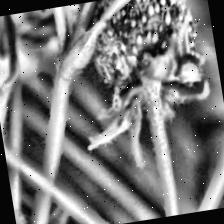Gray Mold: (65, 0, 220, 176)
